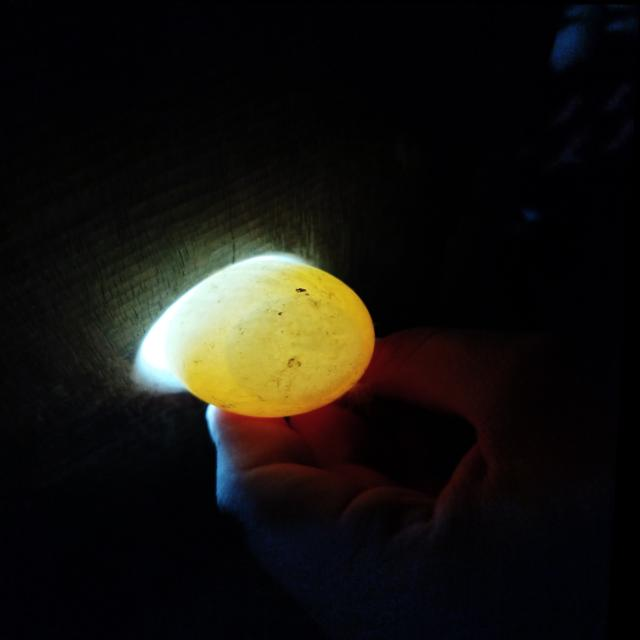Camara de Ar: (227, 297, 366, 402)
